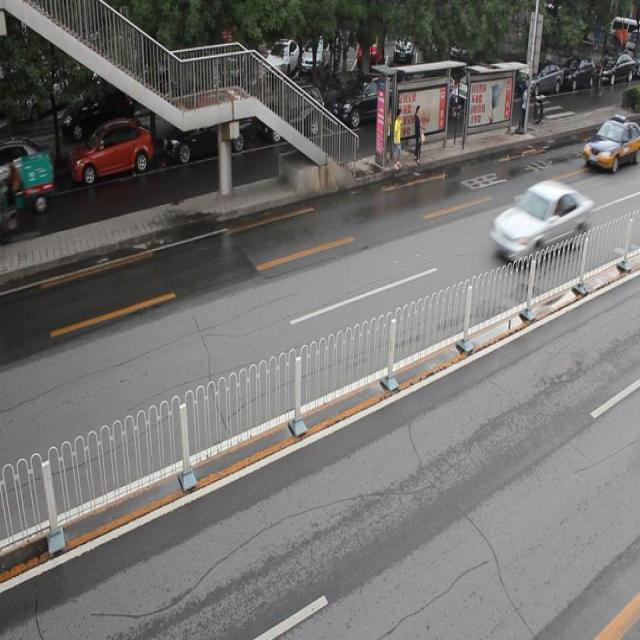car: (487, 182, 590, 265), (64, 119, 152, 187), (162, 100, 251, 163), (330, 74, 404, 130), (257, 85, 323, 144), (581, 113, 640, 173), (1, 138, 52, 196)
